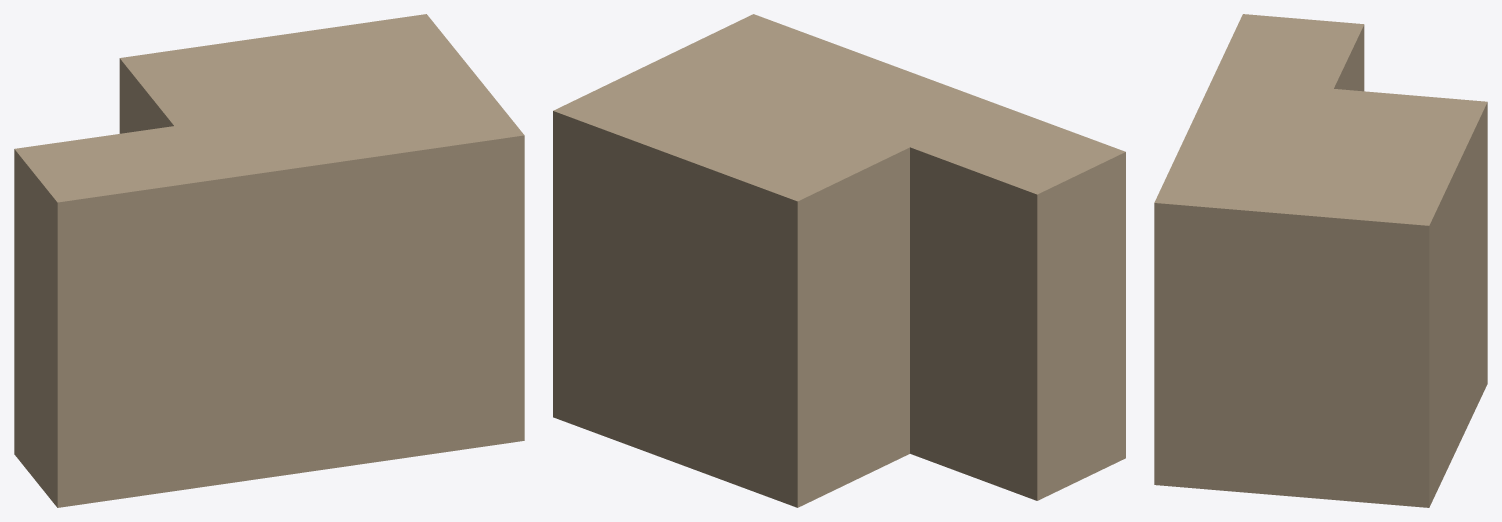
The model's file is bld_100469782.dae.
The picture shows the model from 3 angles, left to right: view 1: azimuth 30°, elevation 25°; view 2: azimuth 150°, elevation 25°; view 3: azimuth 270°, elevation 25°; orthographic projection. The views are drawn at different scales.
Visible parts, largest first — view 1: bld_100469782; view 2: bld_100469782; view 3: bld_100469782.
Boxes of the visible parts, left/top/right/bottom form: bld_100469782: left=14, top=14, right=524, bottom=507; bld_100469782: left=553, top=14, right=1125, bottom=507; bld_100469782: left=1154, top=14, right=1487, bottom=507.
Bounding box in the file's own units: 12.89 × 8.57 × 8.
